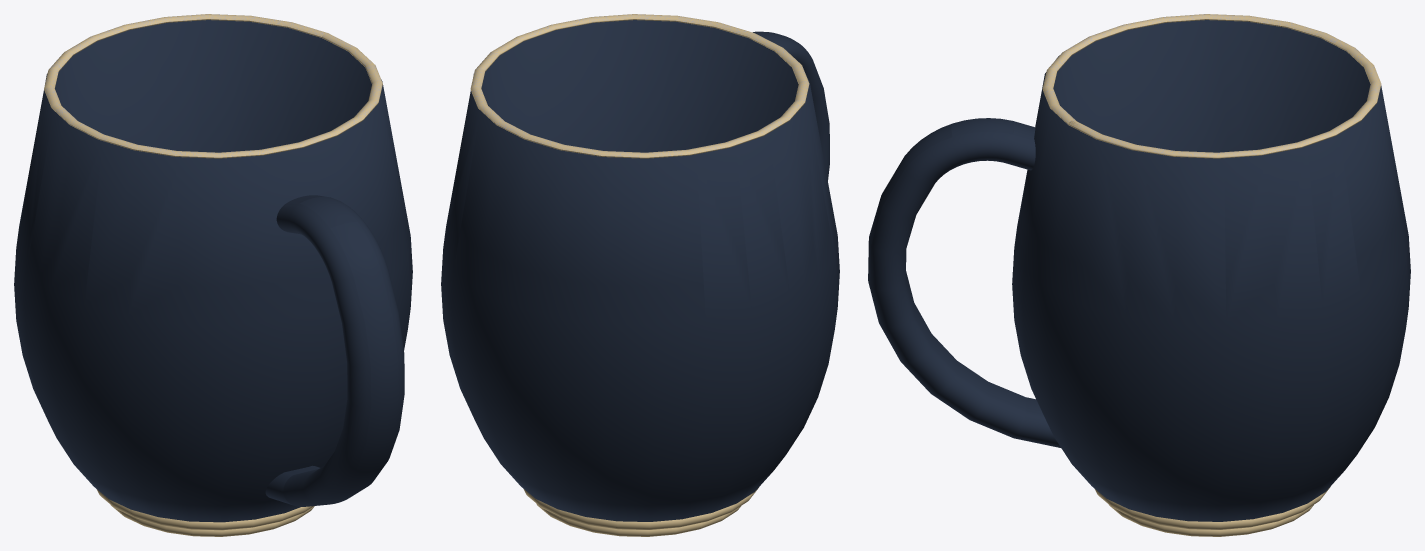
File: mug.dae
3 renders of one model, left to right at view 1: azimuth 30°, elevation 25°; view 2: azimuth 150°, elevation 25°; view 3: azimuth 270°, elevation 25°, orthographic.
Parts seen in each view (by area): view 1: group_1 (×2), group_4, group_5 (×2), group_2, group_3; view 2: group_1 (×2), group_5 (×2), group_4, group_2, group_3; view 3: group_1 (×2), group_4, group_5 (×2), group_2, group_3.
Part boxes in pixels (x1,y1,x2,y2): group_1 (×2): (14,20,412,522); group_4: (265,195,404,506); group_5 (×2): (44,14,382,158); group_2: (97,489,313,530); group_3: (111,505,314,536); group_1 (×2): (441,20,839,521); group_5 (×2): (470,14,809,158); group_4: (753,31,829,180); group_2: (523,487,758,529); group_3: (536,504,740,536); group_1 (×2): (1012,20,1410,521); group_4: (868,118,1060,447); group_5 (×2): (1042,14,1381,158); group_2: (1095,487,1330,529); group_3: (1109,505,1313,536).
Size of the model in its own units: 42.36 by 57.66 by 47.89.
